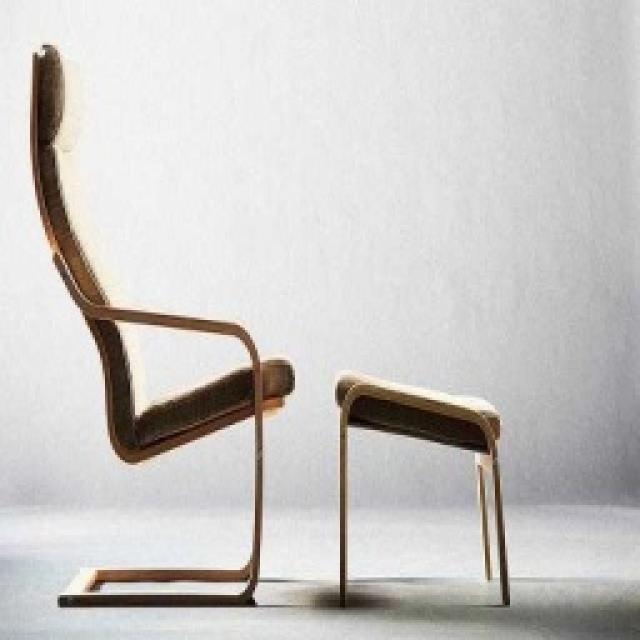sandalye: (27, 40, 295, 608), (332, 368, 510, 608)
